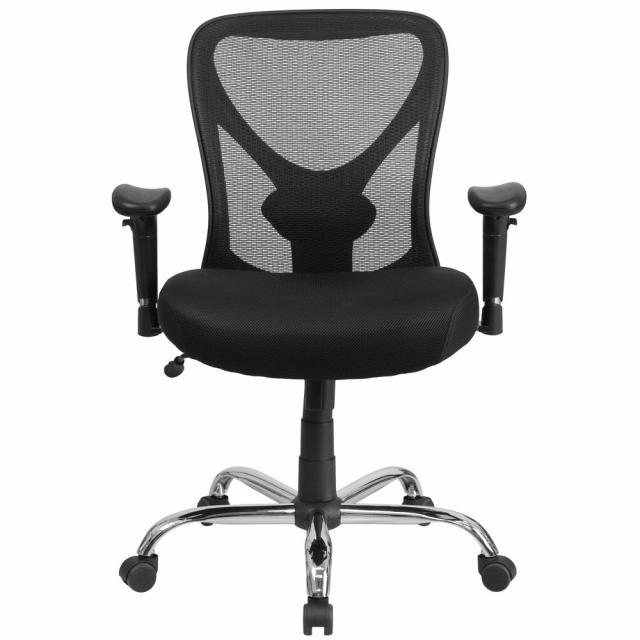chair: (51, 6, 534, 640)
